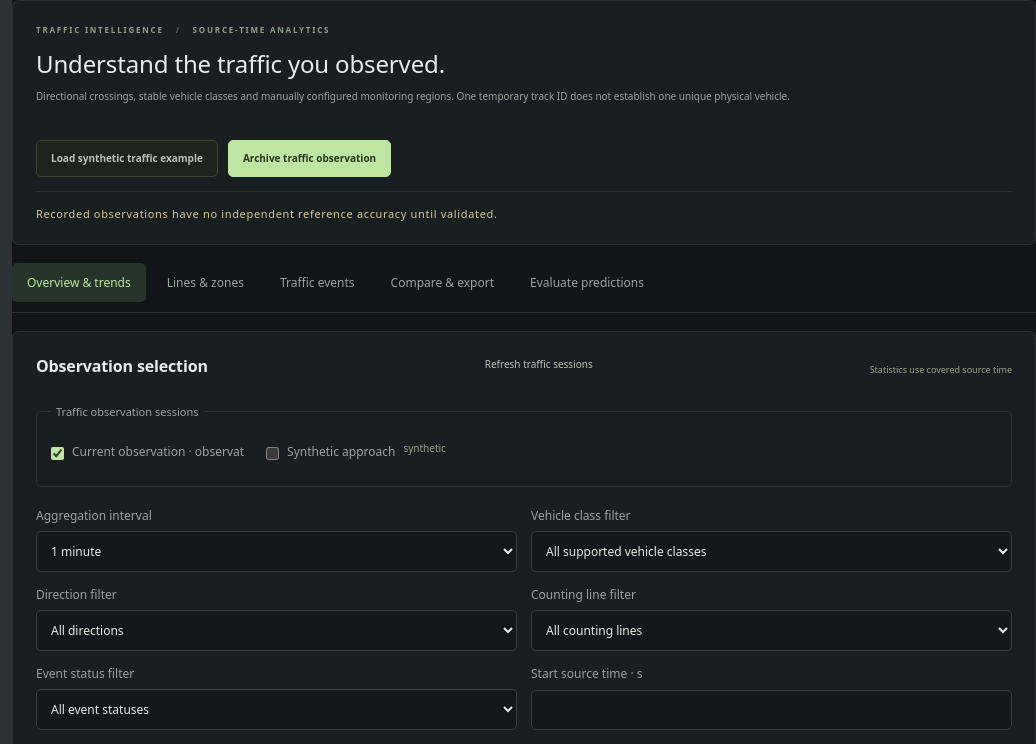
Test case: Traffic Intelligence workspace › selects sessions and aggregation intervals for comparison without conflating source clocks
Step 1. Click the checkbox labelled "Synthetic approach synthetic" → (273, 453), box [266, 447, 279, 460]
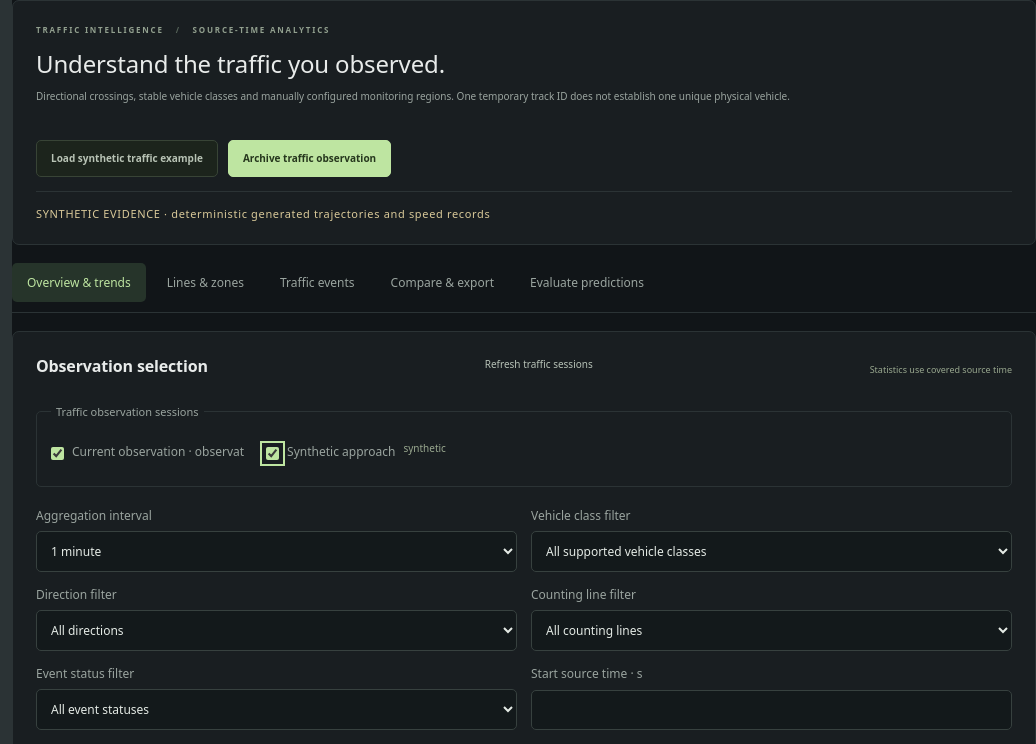
Step 2. Click the checkbox labelled "Current observation · observat" → (58, 453), box [51, 447, 64, 460]
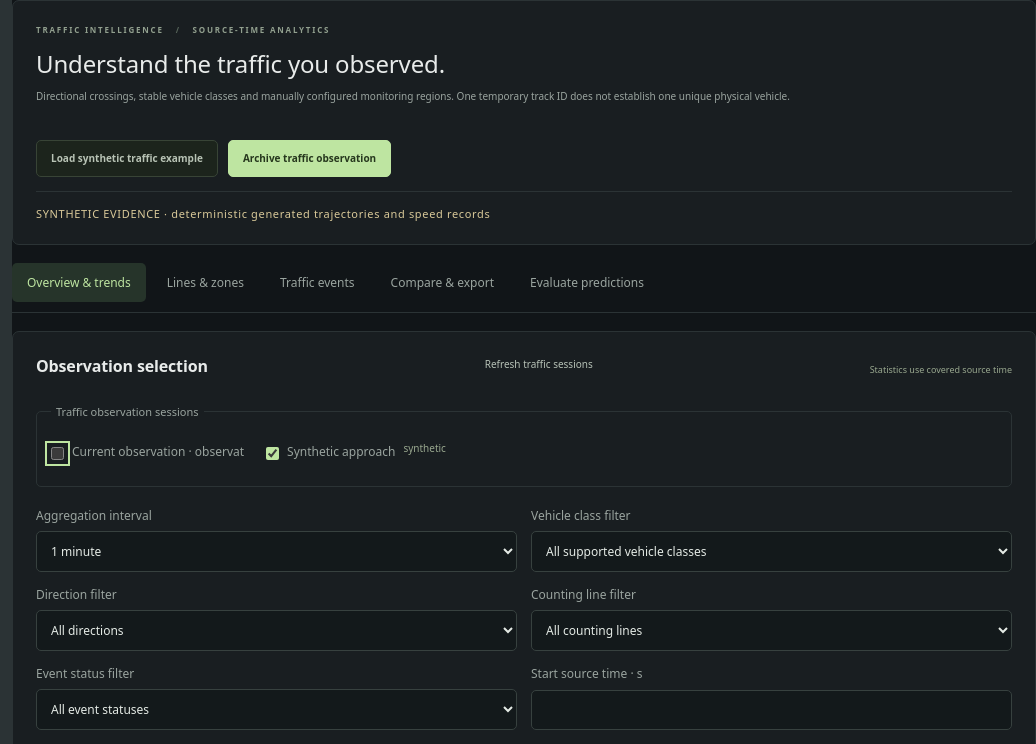
Step 3. Select "15 minutes" in the dropdown labelled "Aggregation interval" → (276, 551), box [36, 531, 517, 572]
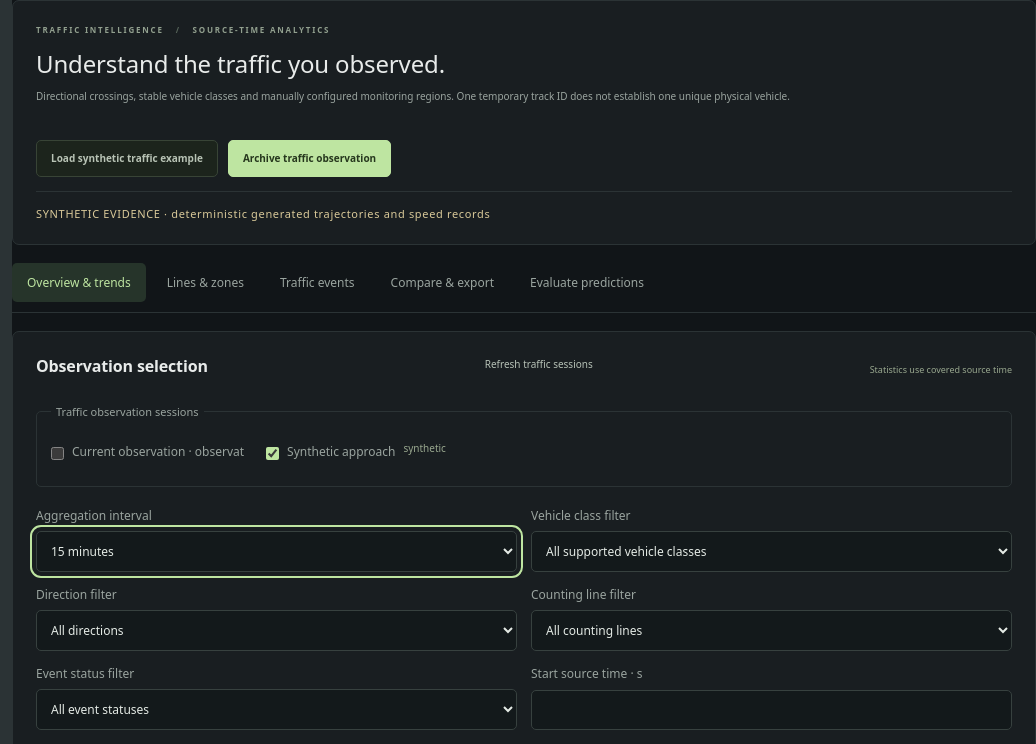
Step 4. Click the tab "Compare & export" → (442, 282), box [376, 262, 509, 302]
(page scrolled)
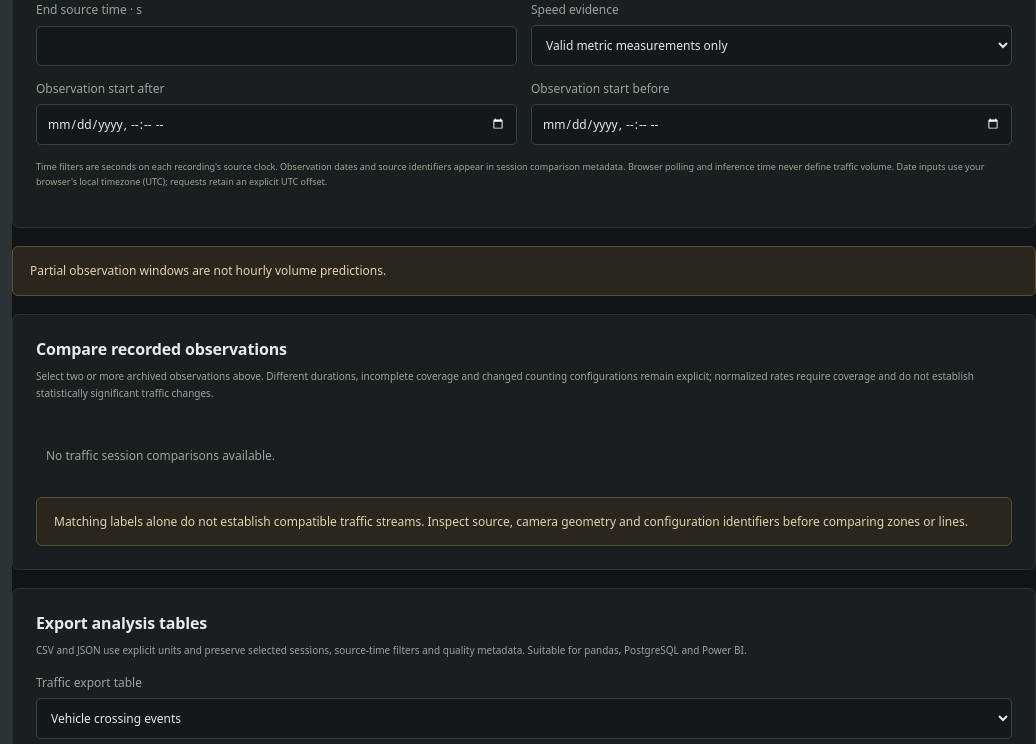
Expected: the text "Different durations, incomplete coverage" is shown, [36, 369, 974, 400]
